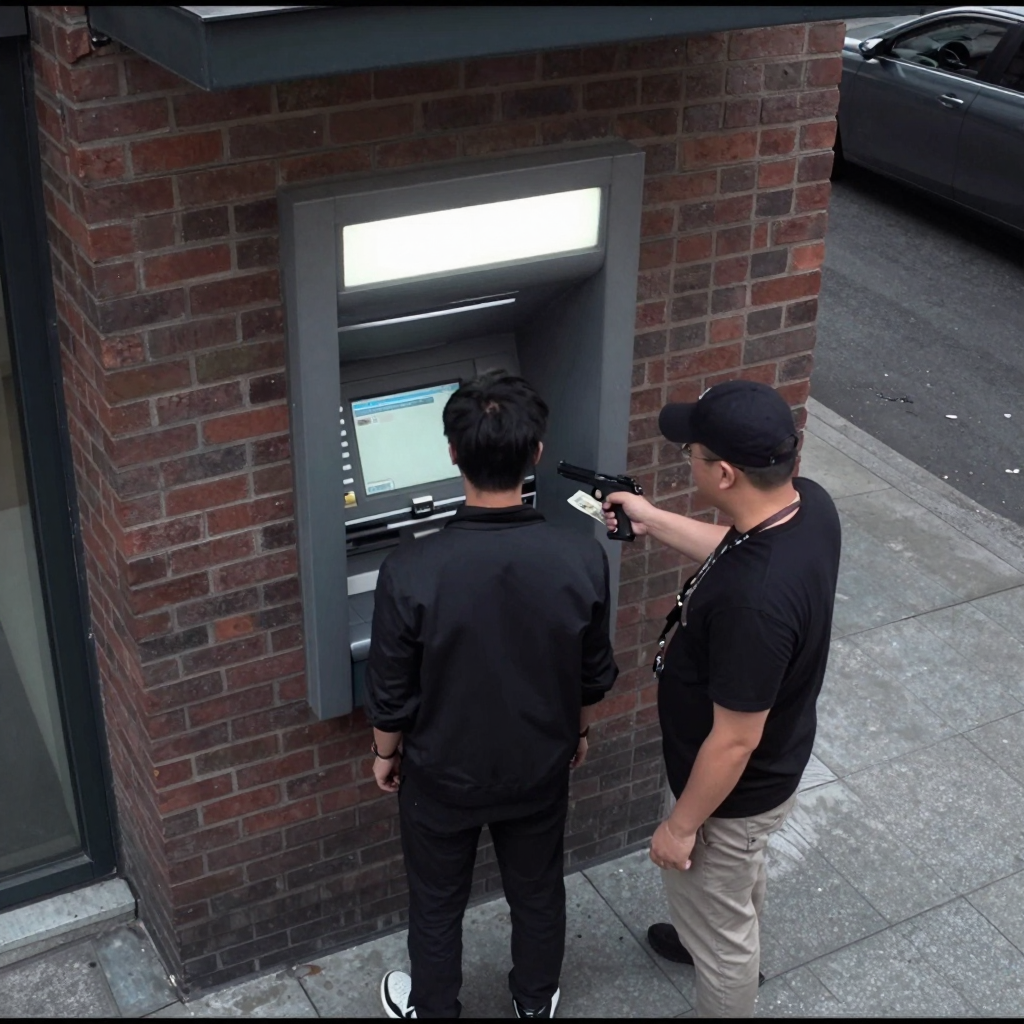Robbery: (363, 366, 621, 1020), (596, 379, 842, 1016)
Shooting: (556, 460, 644, 541)
